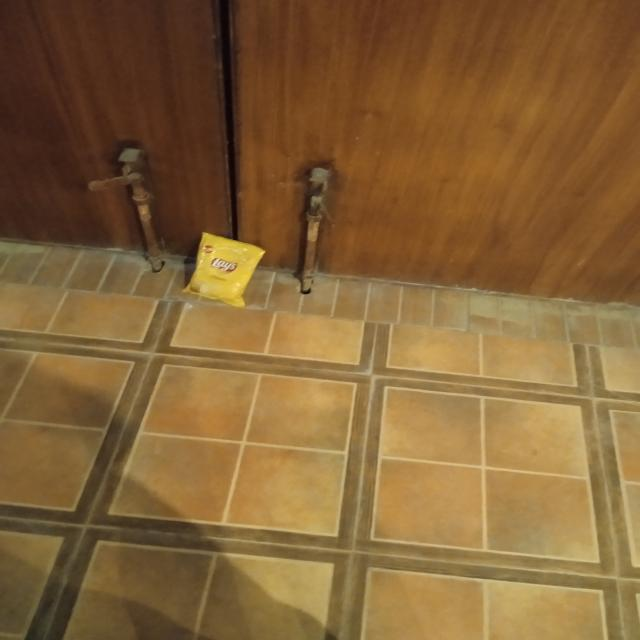Plastic: (176, 230, 271, 312)
